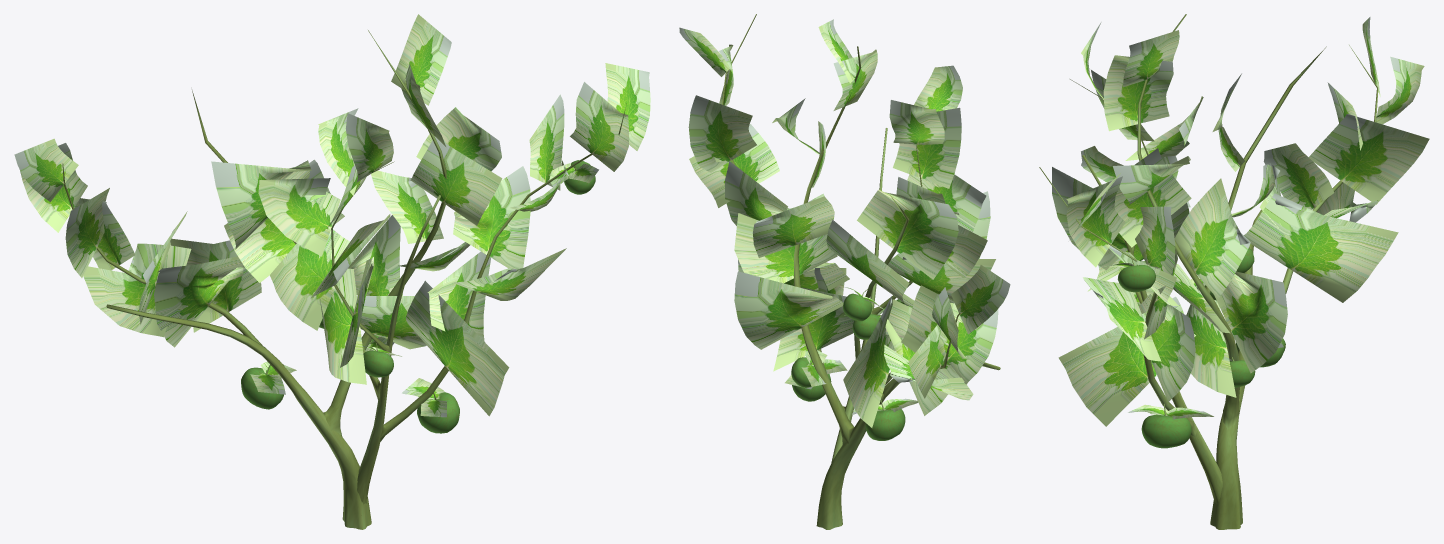
The model's file is RosiiStage2.fbx.
The picture shows the model from 3 angles, left to right: view 1: azimuth 30°, elevation 25°; view 2: azimuth 150°, elevation 25°; view 3: azimuth 270°, elevation 25°; orthographic projection. The views are drawn at different scales.
Parts seen in each view (by area): view 1: SM_Plant_19; view 2: SM_Plant_19; view 3: SM_Plant_19.
Part boxes in pixels (<box>): SM_Plant_19: <box>14,14,650,529</box>; SM_Plant_19: <box>679,14,1010,529</box>; SM_Plant_19: <box>1039,14,1429,529</box>.
Bounding box in the file's own units: 51.72 × 35.38 × 51.25.
3 materials, 3 textured.
